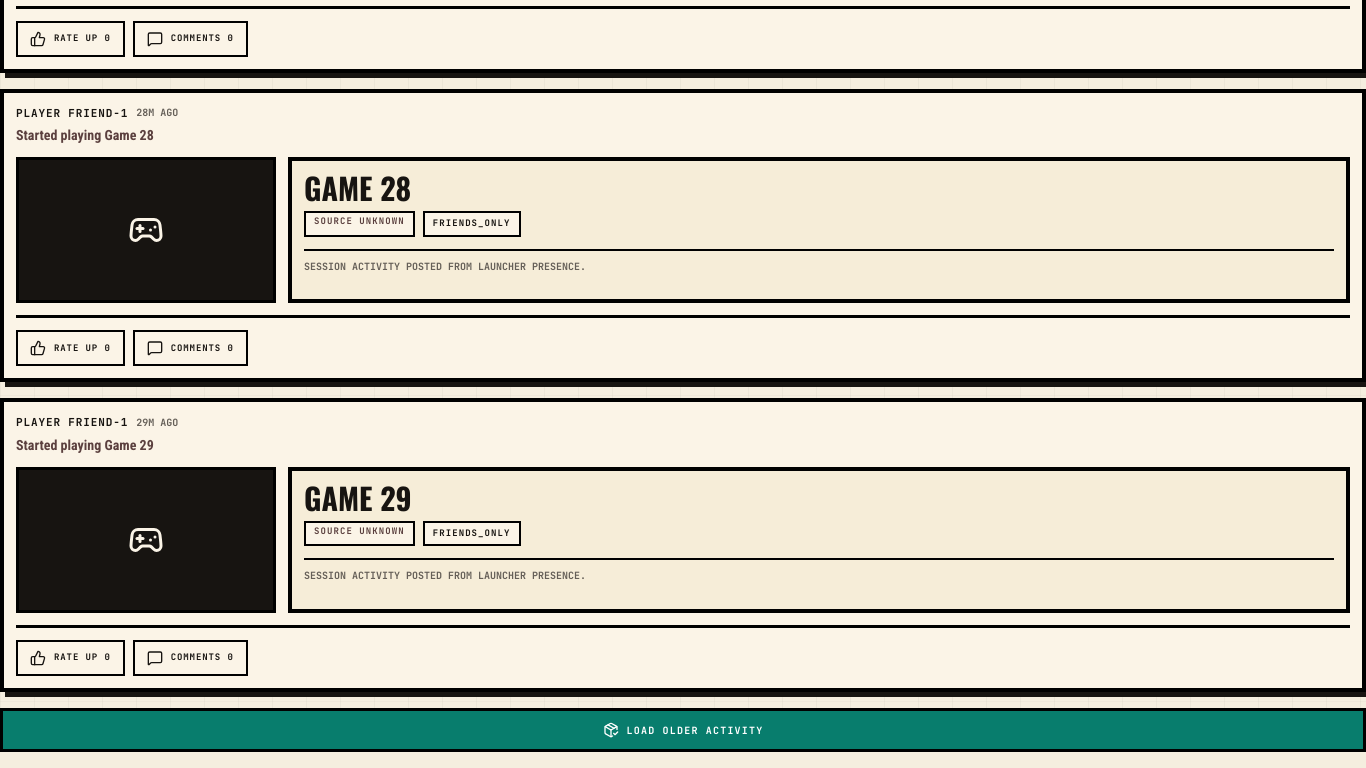
Scenario: ActivityFeed › loads interaction summaries only for newly paginated activity
(page scrolled)
Click the button "Load older activity": [683, 730] box [0, 708, 1365, 752]
(page scrolled)
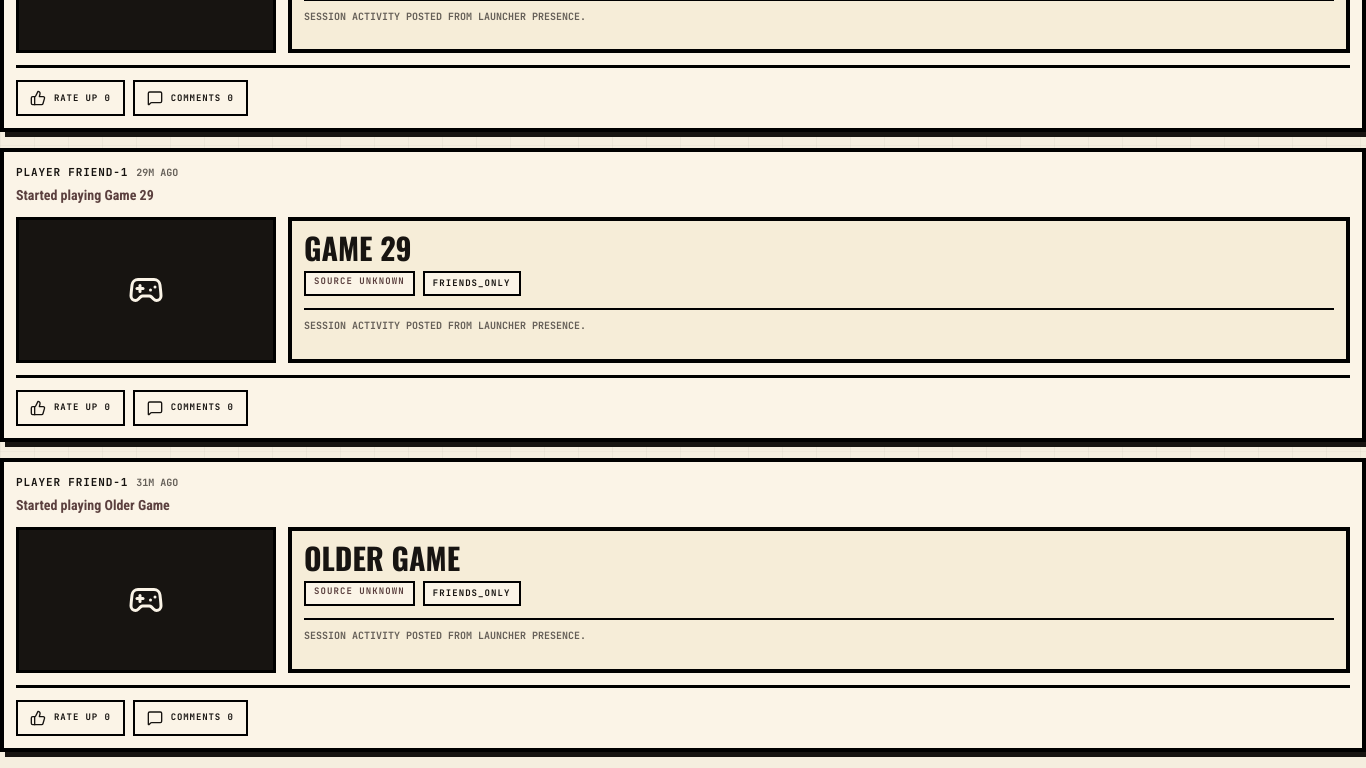
Check: the text "Older Game" is shown, box [304, 534, 460, 580]
